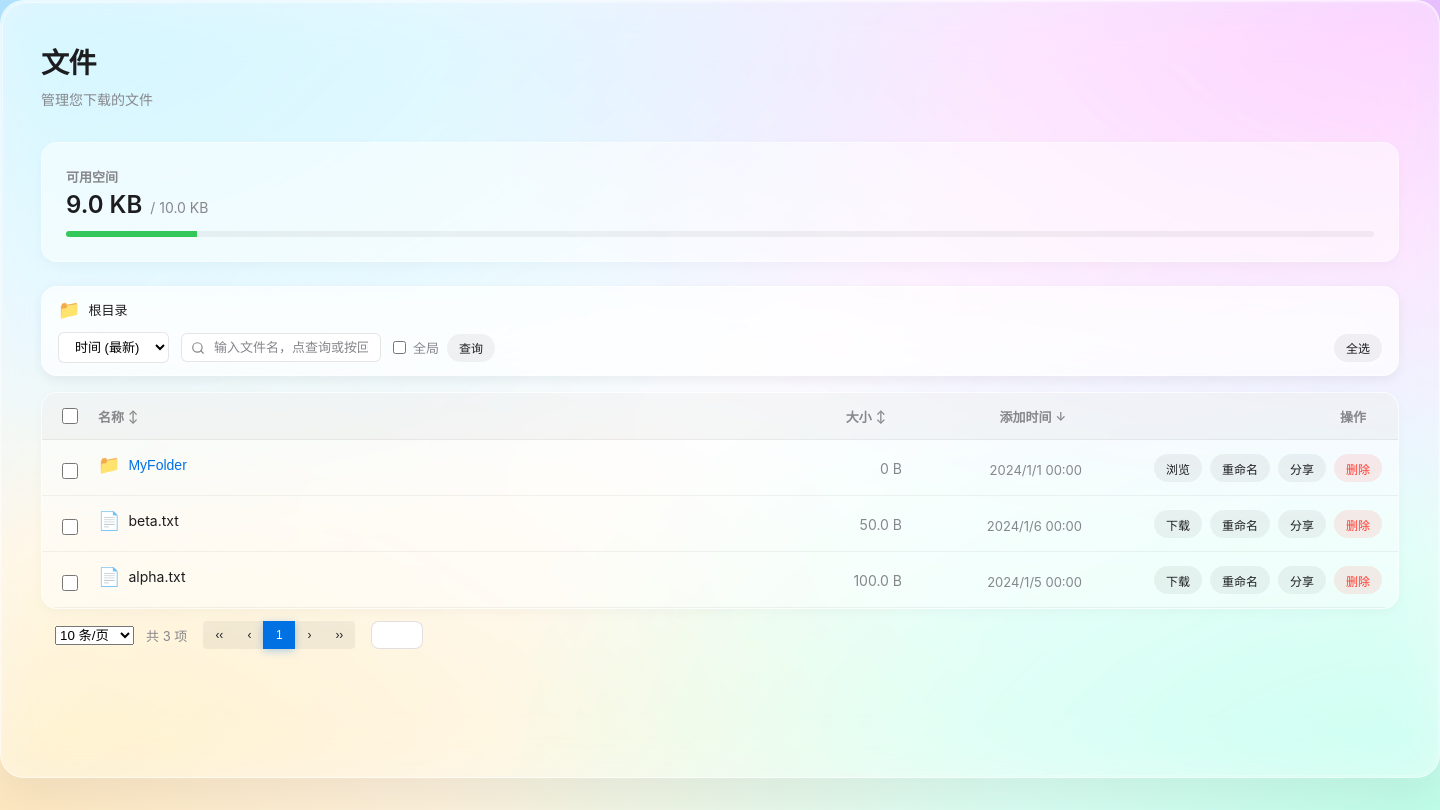
Test case: FilesPage rename › cancel rename via button and Escape restores the row
The image size is (1440, 810).
Check: the button "MyFolder" is shown, box 128,456 -> 187,472
Click the button "重命名" in the row of "2024/1/5 00:00" at (1240,580), box 1210,566 -> 1270,594
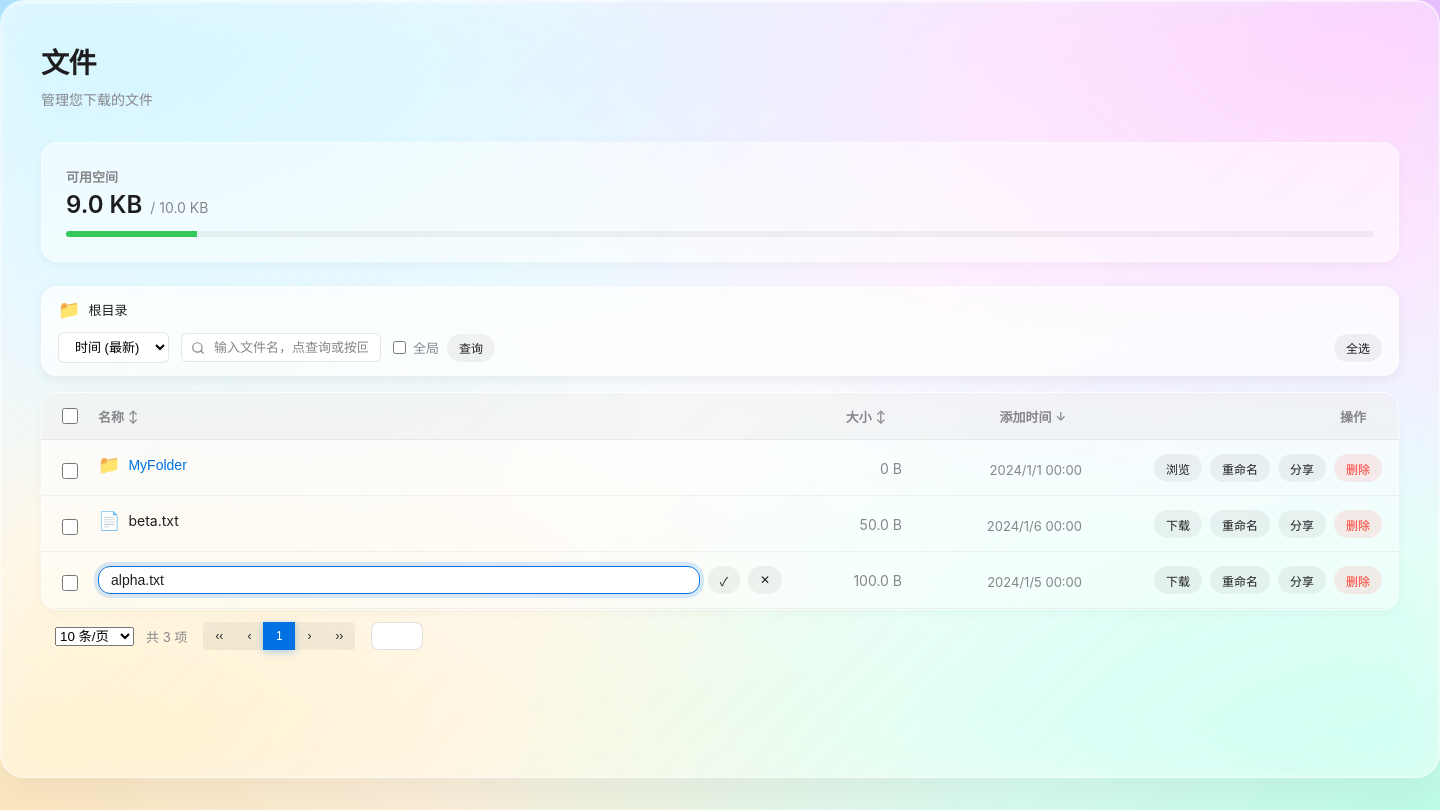
Click the button named "取消重命名" at (765,580), box 748,566 -> 782,594
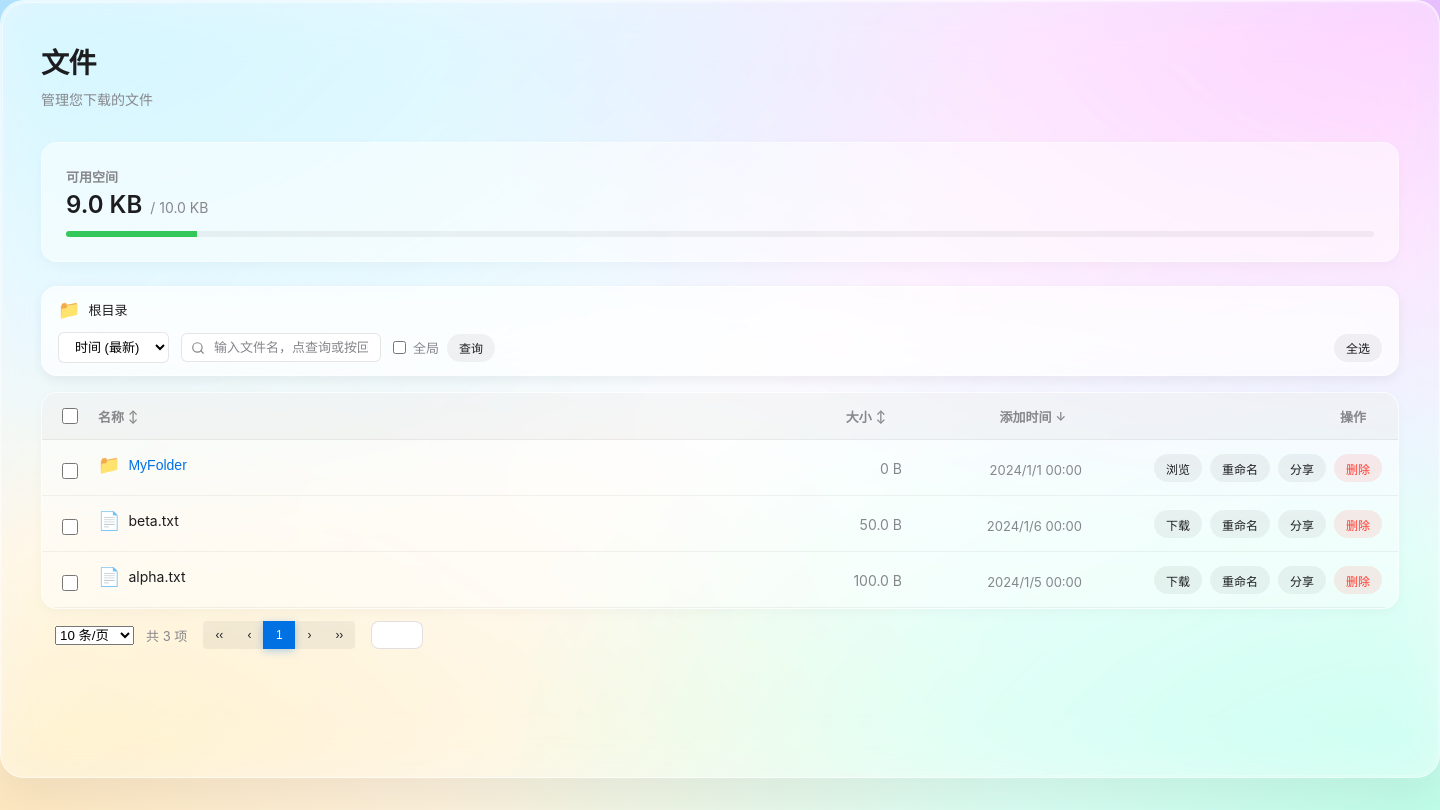
Check: the field labelled "重命名文件" is gone
Click the button "重命名" in the row of "2024/1/5 00:00" at (1240,580), box 1210,566 -> 1270,594
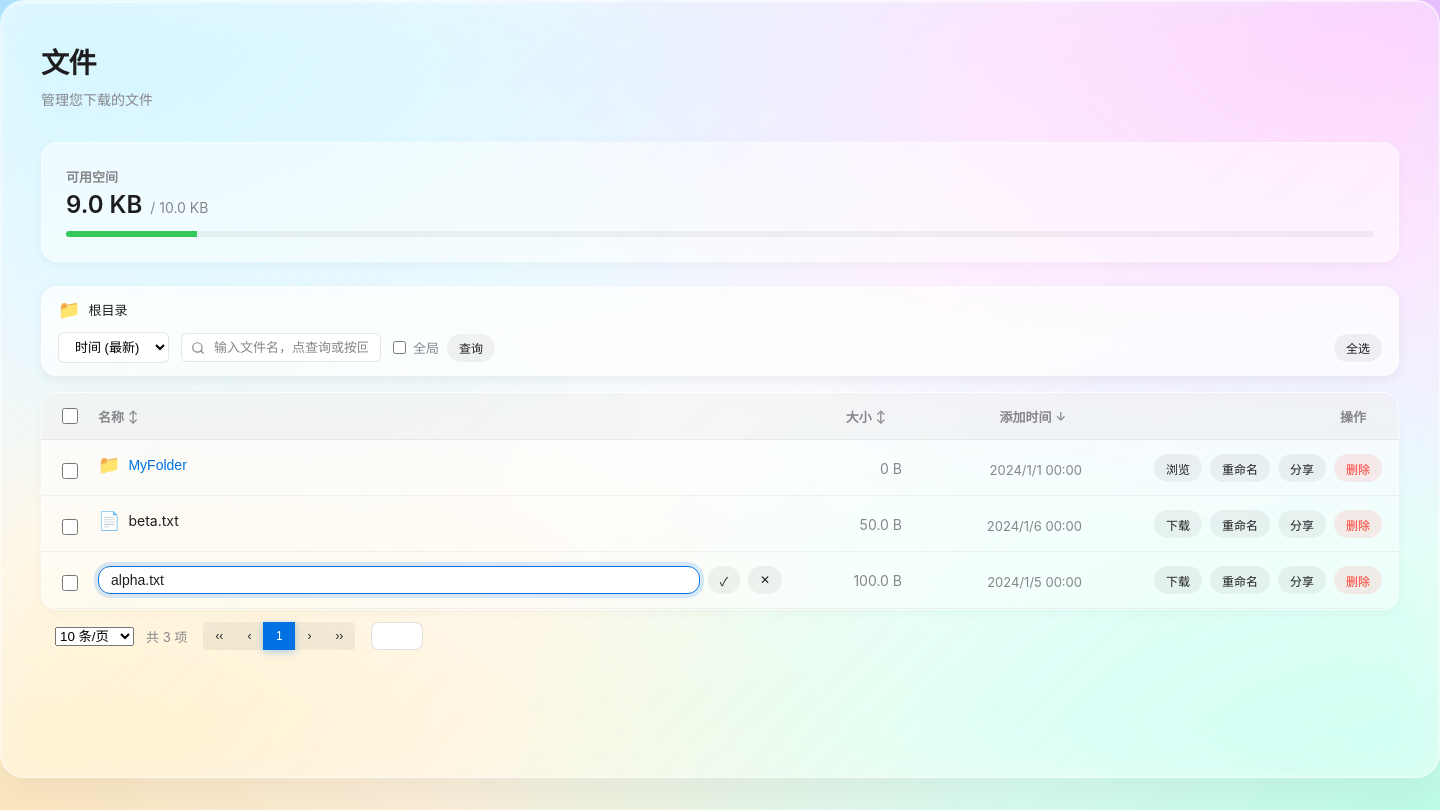
Press Escape in the field named "重命名文件", box 98,566 -> 700,594
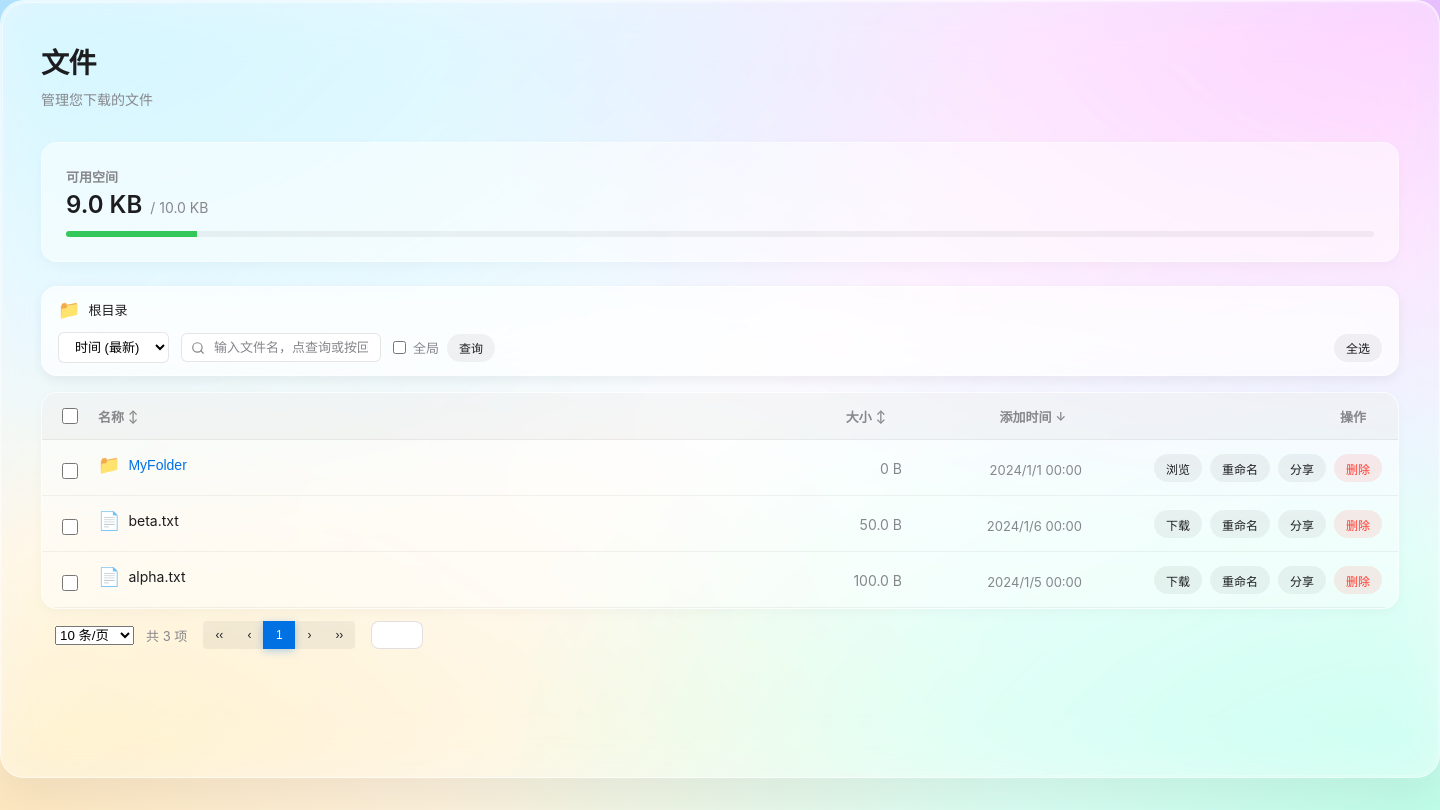
Check: the field labelled "重命名文件" is gone
